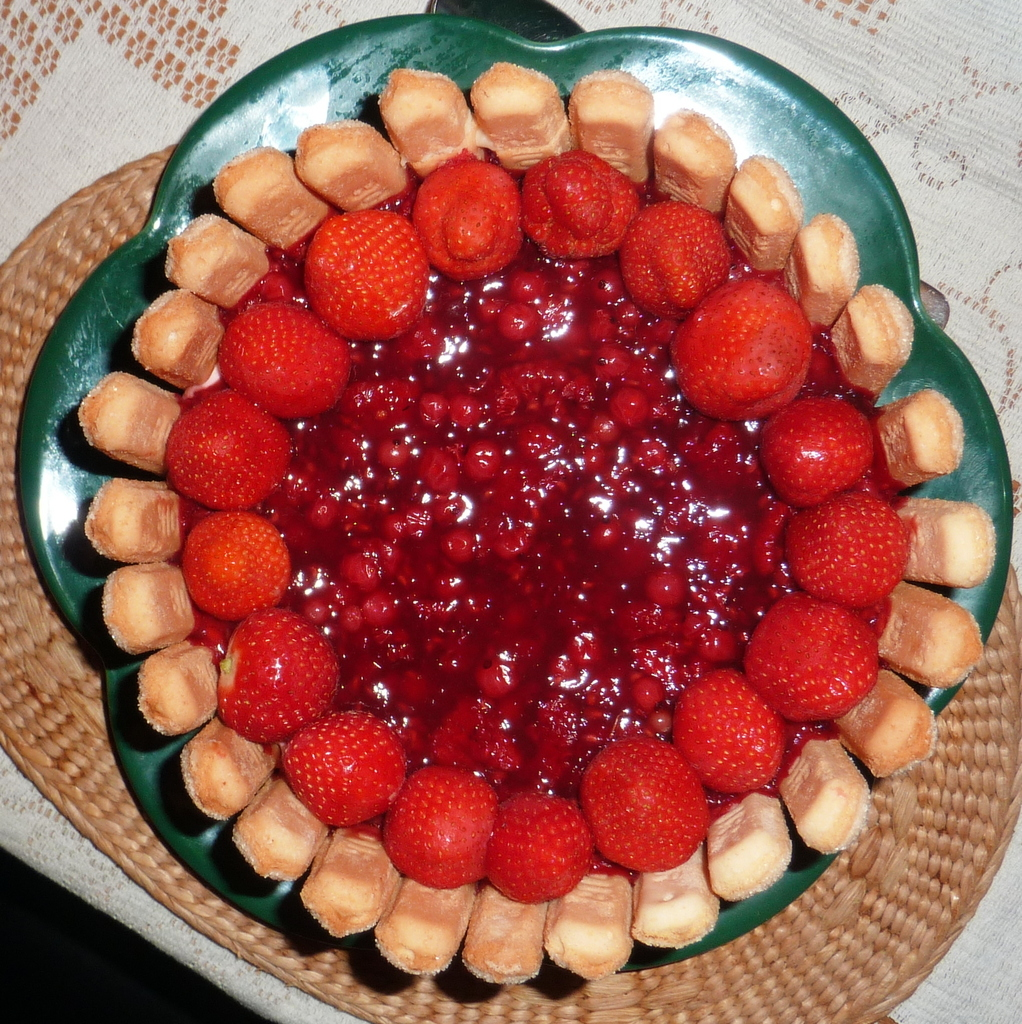cake: (80, 63, 991, 989)
